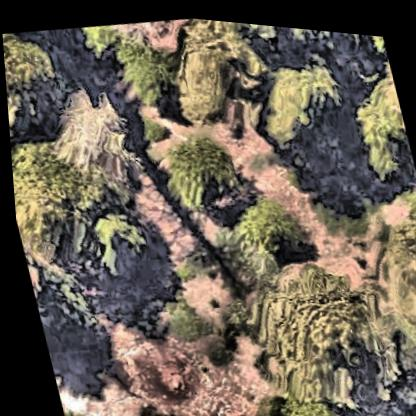tree-top: (7, 113, 159, 317), (245, 249, 416, 416), (159, 12, 261, 125), (244, 44, 344, 144), (1, 24, 80, 142), (224, 175, 309, 265), (158, 128, 241, 213), (104, 25, 186, 109), (352, 83, 412, 182), (368, 306, 416, 416), (248, 371, 350, 416), (374, 197, 416, 301), (290, 22, 368, 53), (54, 400, 105, 416)
